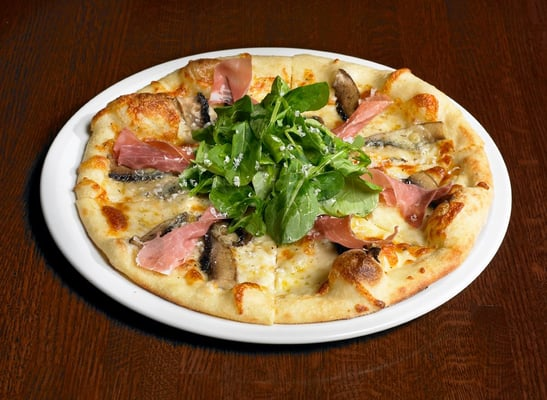curry: (24, 2, 547, 400)
sandwich: (72, 53, 493, 327)
